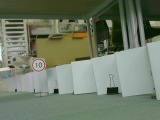speed_10: (29, 57, 47, 72)
